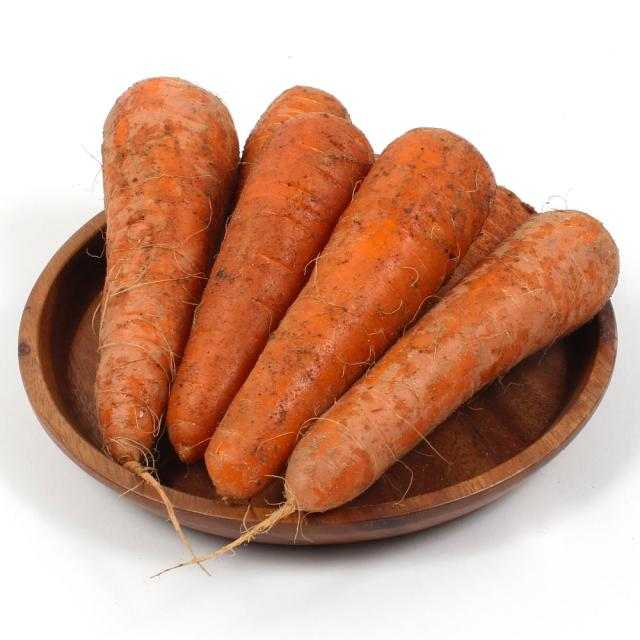carrot: (267, 208, 619, 528), (202, 124, 494, 509), (165, 111, 375, 468), (100, 74, 238, 469)
